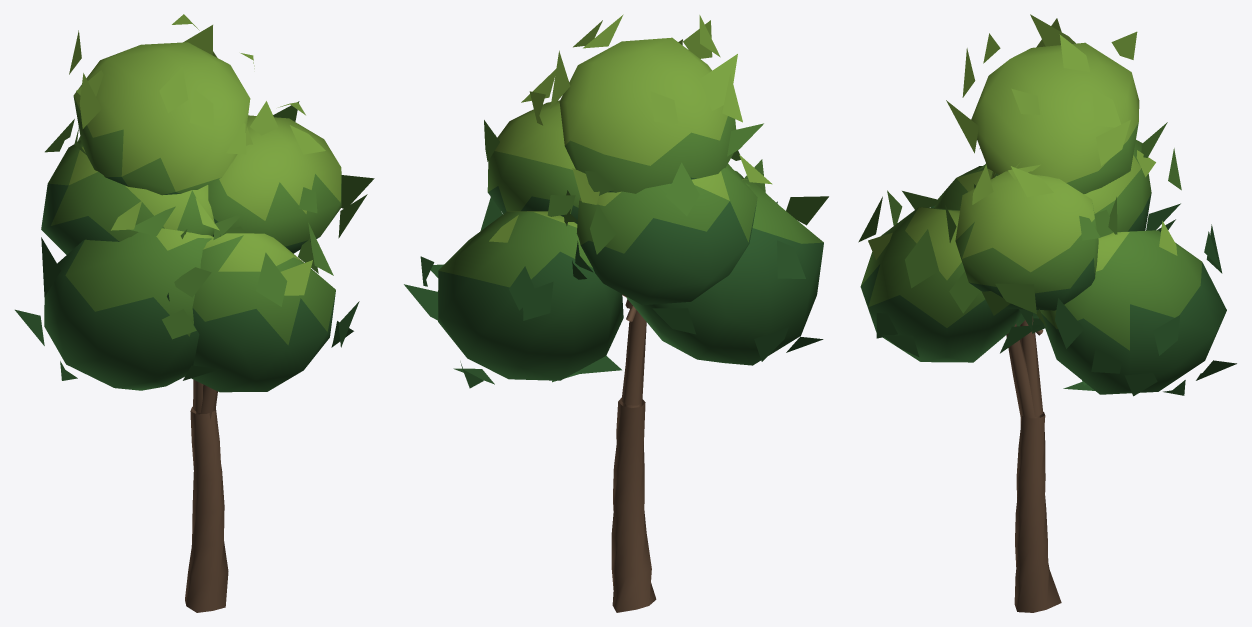
The model's file is SaplingA.glb.
The picture shows the model from 3 angles, left to right: view 1: azimuth 30°, elevation 25°; view 2: azimuth 150°, elevation 25°; view 3: azimuth 270°, elevation 25°; orthographic projection. The views are drawn at different scales.
Parts seen in each view (by area): view 1: SaplingA.leafLight, SaplingA.leafMid, SaplingA.leafDark, SaplingA.bark; view 2: SaplingA.leafDark, SaplingA.leafMid, SaplingA.leafLight, SaplingA.bark; view 3: SaplingA.leafLight, SaplingA.leafMid, SaplingA.leafDark, SaplingA.bark.
Boxes of the visible parts, bbox=[...] form: SaplingA.leafLight: bbox=[69, 14, 341, 295]; SaplingA.leafMid: bbox=[45, 96, 374, 345]; SaplingA.leafDark: bbox=[15, 177, 359, 392]; SaplingA.bark: bbox=[185, 379, 228, 612]; SaplingA.leafDark: bbox=[404, 177, 823, 388]; SaplingA.leafMid: bbox=[438, 116, 828, 287]; SaplingA.leafLight: bbox=[489, 14, 772, 242]; SaplingA.bark: bbox=[611, 294, 656, 612]; SaplingA.leafLight: bbox=[868, 14, 1177, 280]; SaplingA.leafMid: bbox=[858, 122, 1202, 350]; SaplingA.leafDark: bbox=[860, 174, 1236, 396]; SaplingA.bark: bbox=[1006, 316, 1061, 612].
Bounding box in the file's own units: 6.74 × 11.37 × 6.89.
